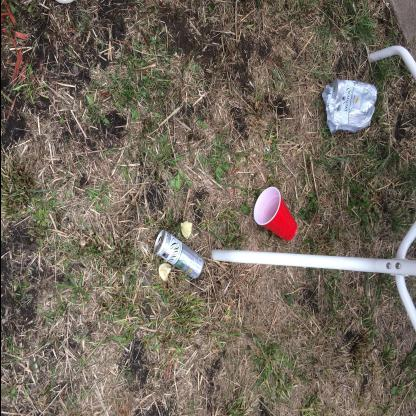metal: (153, 230, 203, 280)
plastik: (321, 78, 376, 135), (252, 186, 297, 242)
